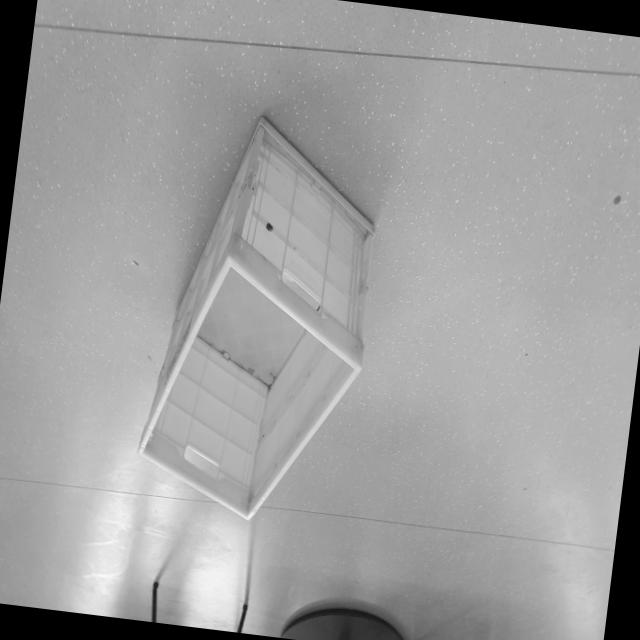box: (120, 98, 397, 538)
